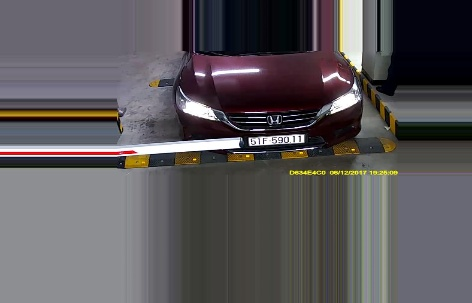plate: (247, 132, 308, 147)
